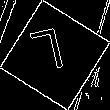L_S: (34, 27, 76, 83)
